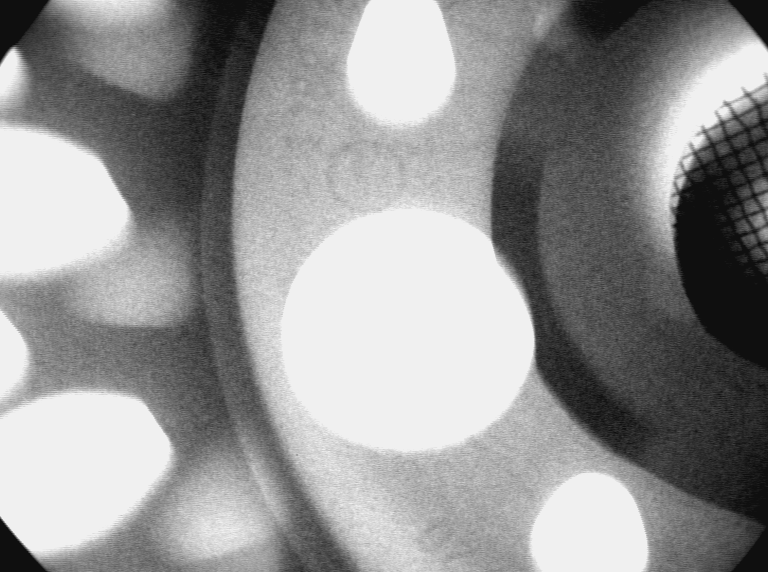defect: (530, 2, 582, 54)
